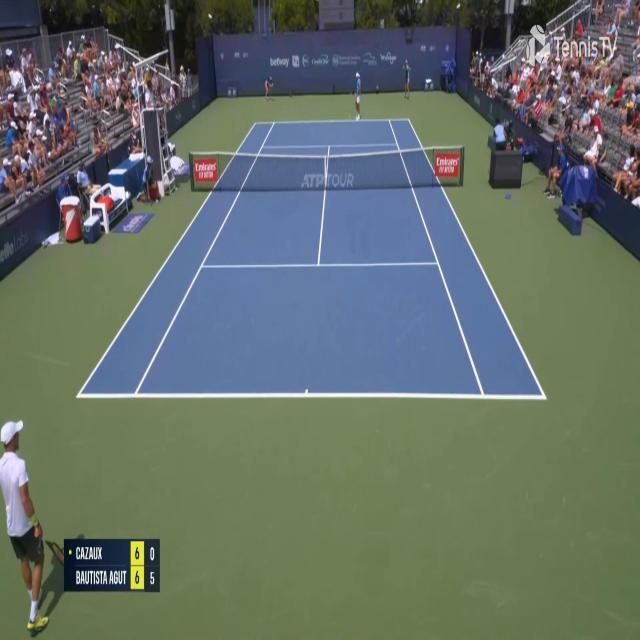tennis-player: (2, 413, 68, 634), (352, 69, 363, 122)
